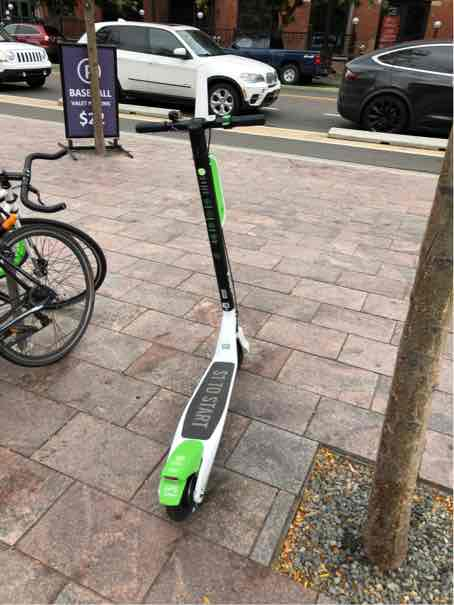scooter: (119, 107, 284, 519)
